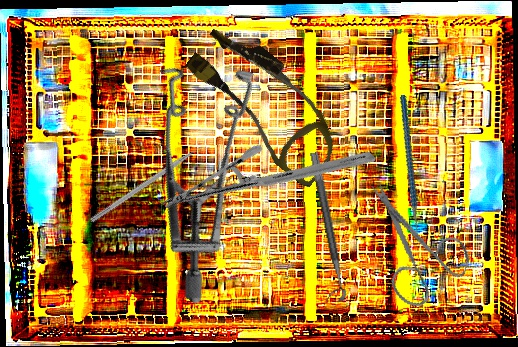Cannula: (171, 16, 360, 190)
Chopper: (369, 94, 459, 245), (89, 139, 214, 230)
Fixation Ring: (297, 151, 348, 305)
Iris Scissors: (338, 177, 485, 320)
Needle Holder: (159, 74, 378, 287)
Speculum: (60, 27, 331, 308)
